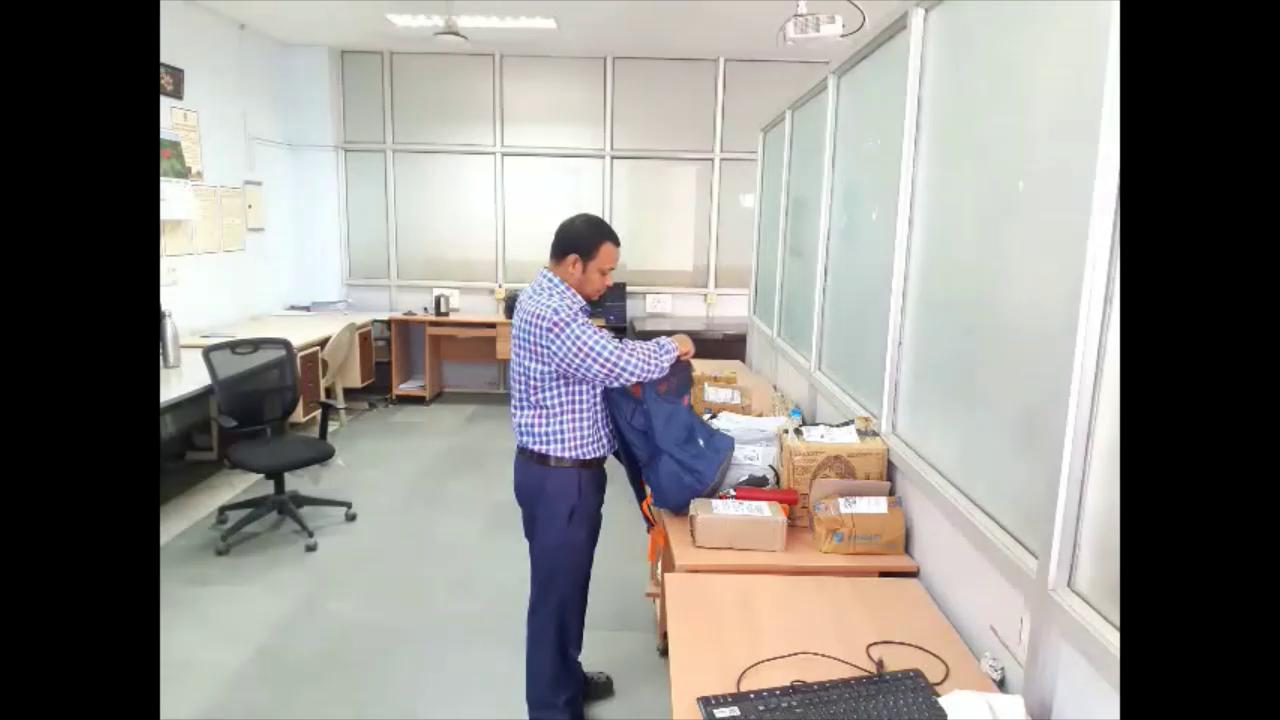shoplifting: (497, 187, 722, 720)
